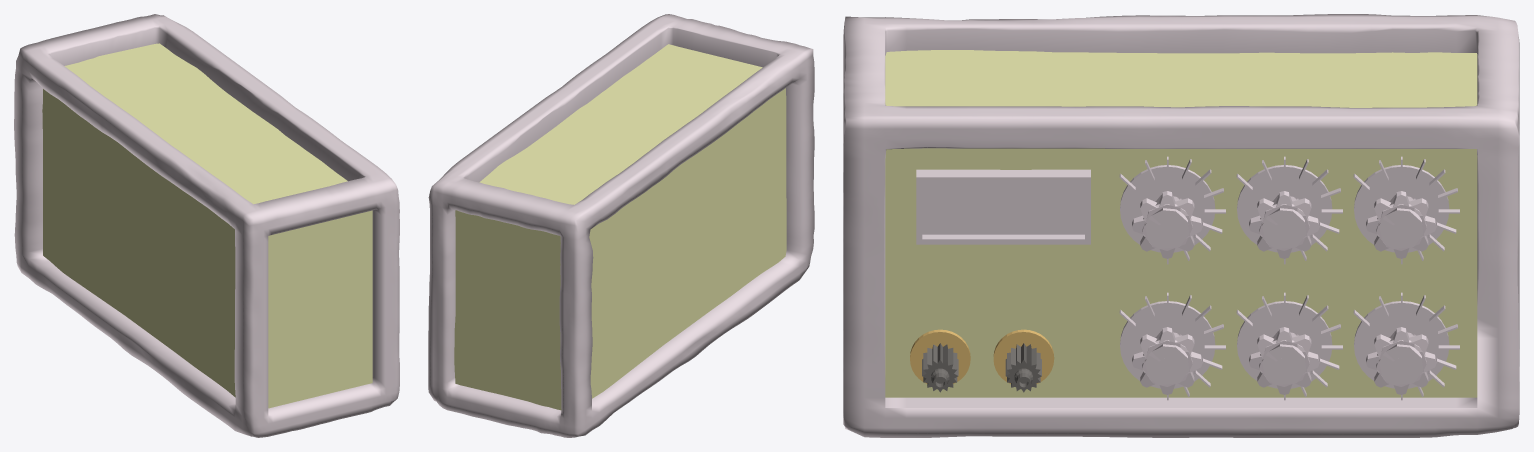
File: Shop.fbx
3 renders of one model, left to right at view 1: azimuth 30°, elevation 25°; view 2: azimuth 150°, elevation 25°; view 3: azimuth 270°, elevation 25°, orthographic. The views are drawn at different scales.
Visible parts, largest first — view 1: Магазин_емкостей_тело.005, Магазин_емкостей_тело.004; view 2: Магазин_емкостей_тело.005, Магазин_емкостей_тело.004; view 3: Магазин_емкостей_тело.005, Магазин_емкостей_тело.004, Cube.016, Cylinder.041, Cylinder.042, Cylinder.043, Cylinder.044, Cylinder.045, Cylinder.046, Cylinder.040, Cylinder.038, Cylinder.037 (+1 smaller).
Boxes of the visible parts, x1=… form: Магазин_емкостей_тело.005: x1=42, y1=43, x2=372, y2=408; Магазин_емкостей_тело.004: x1=14, y1=14, x2=399, y2=437; Магазин_емкостей_тело.005: x1=454, y1=44, x2=786, y2=410; Магазин_емкостей_тело.004: x1=428, y1=14, x2=814, y2=437; Магазин_емкостей_тело.005: x1=885, y1=50, x2=1477, y2=397; Магазин_емкостей_тело.004: x1=843, y1=14, x2=1519, y2=437; Cube.016: x1=916, y1=169, x2=1090, y2=244; Cylinder.041: x1=1353, y1=292, x2=1459, y2=400; Cylinder.042: x1=1236, y1=292, x2=1342, y2=400; Cylinder.043: x1=1119, y1=292, x2=1225, y2=400; Cylinder.044: x1=1353, y1=156, x2=1459, y2=264; Cylinder.045: x1=1236, y1=156, x2=1342, y2=264; Cylinder.046: x1=1119, y1=156, x2=1225, y2=264; Cylinder.040: x1=993, y1=329, x2=1054, y2=383; Cylinder.038: x1=910, y1=329, x2=970, y2=383; Cylinder.037: x1=922, y1=343, x2=958, y2=392.
Bounding box in the file's own units: 3.51 × 4.34 × 8.32.
